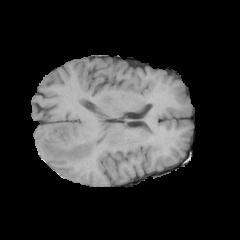glioma: (46, 122, 98, 164)
